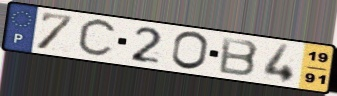2: (131, 26, 164, 66)
4: (261, 42, 297, 85)
7: (37, 11, 75, 52)
B: (217, 35, 261, 78)
C: (74, 17, 119, 59)
O: (169, 30, 211, 72)
